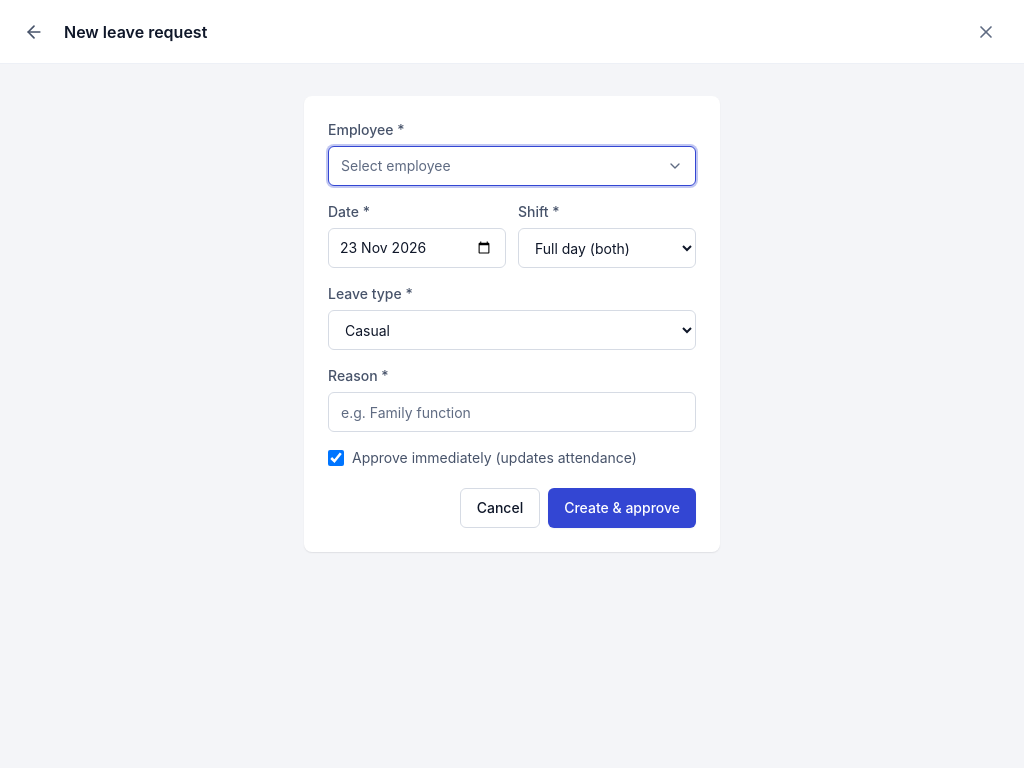
Scenario: NewLeaveModal (admin create leave) › relabels the action when approve-immediately is unchecked
This screenshot has width=1024, height=768.
Expected: the button "Create & approve" is shown, [548, 488, 696, 528]
Click the checkbox.
click(336, 458)  # box [328, 450, 344, 466]
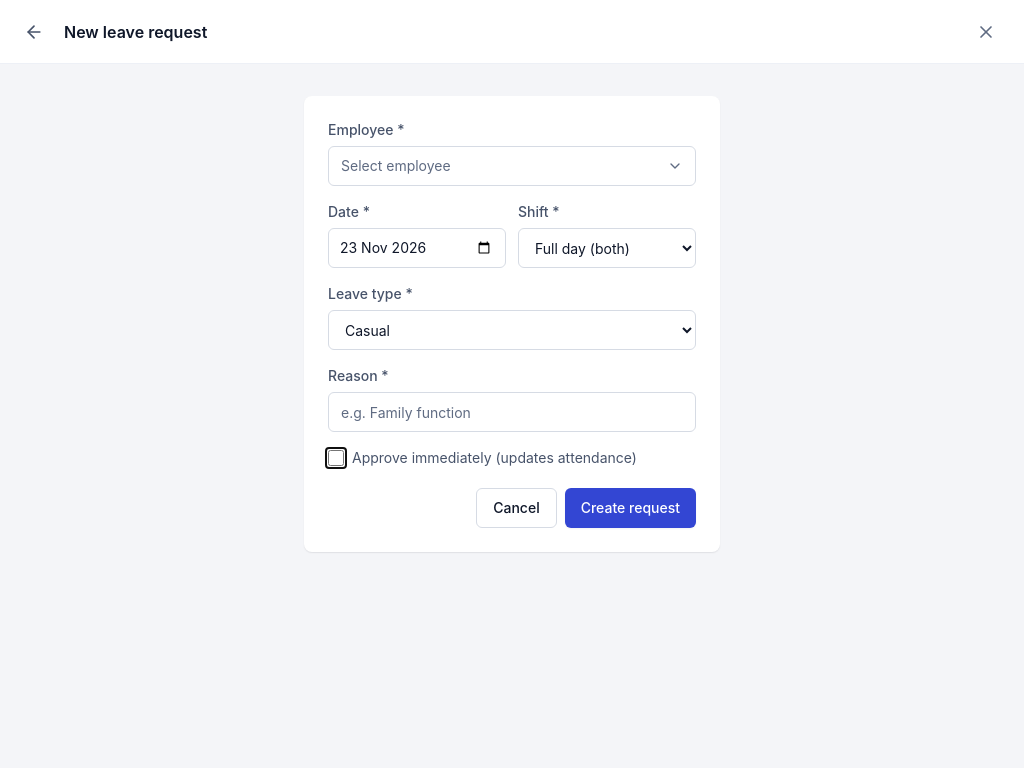
Now the button "Create request" is shown, box [565, 488, 696, 528]
